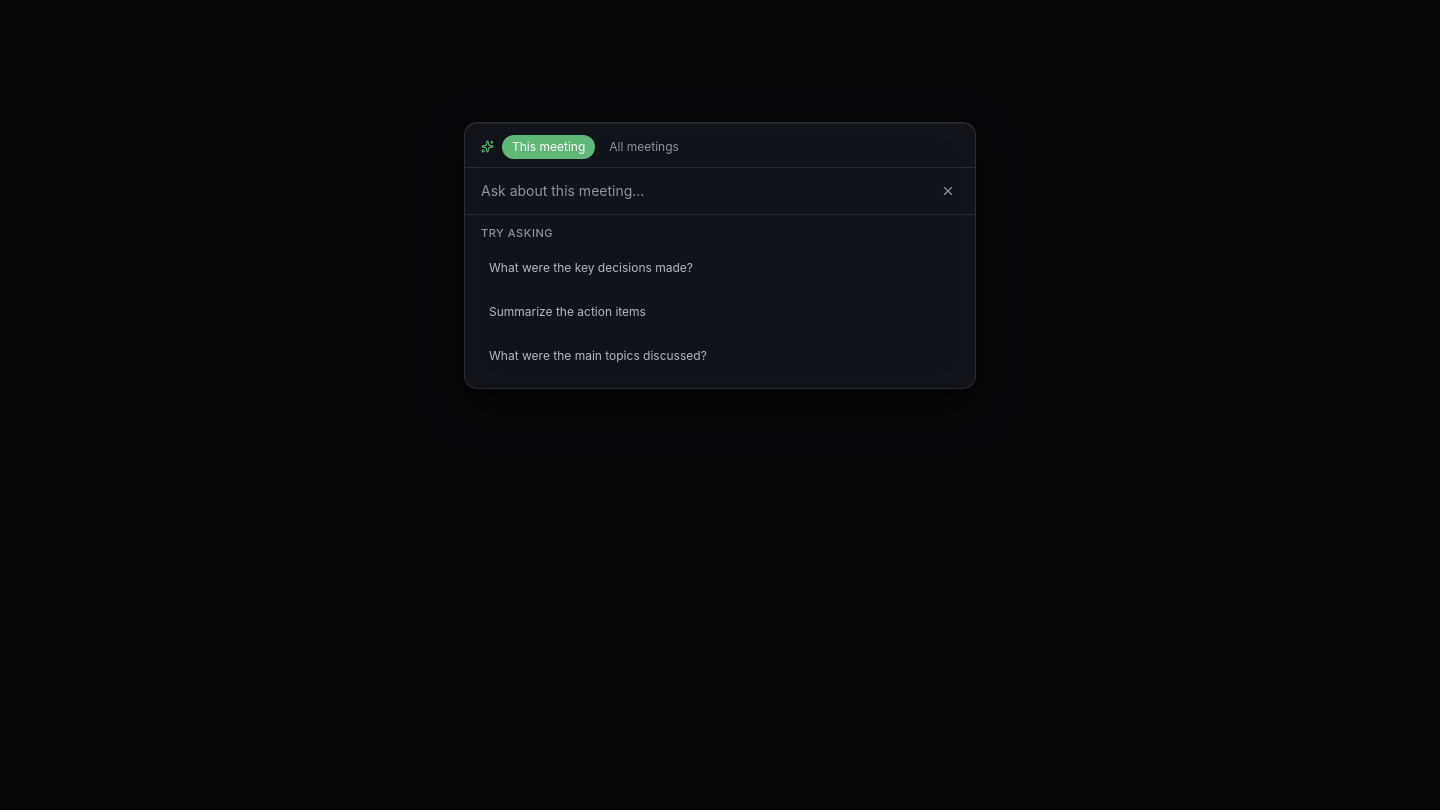
Scenario: AskAIOverlay scope race (audit P3-B) › locks scope switching while a question is in flight
This screenshot has width=1440, height=810.
In the field labelled "Ask about this meeting": (703, 190) [481,180,925,200], type "what shipped?"
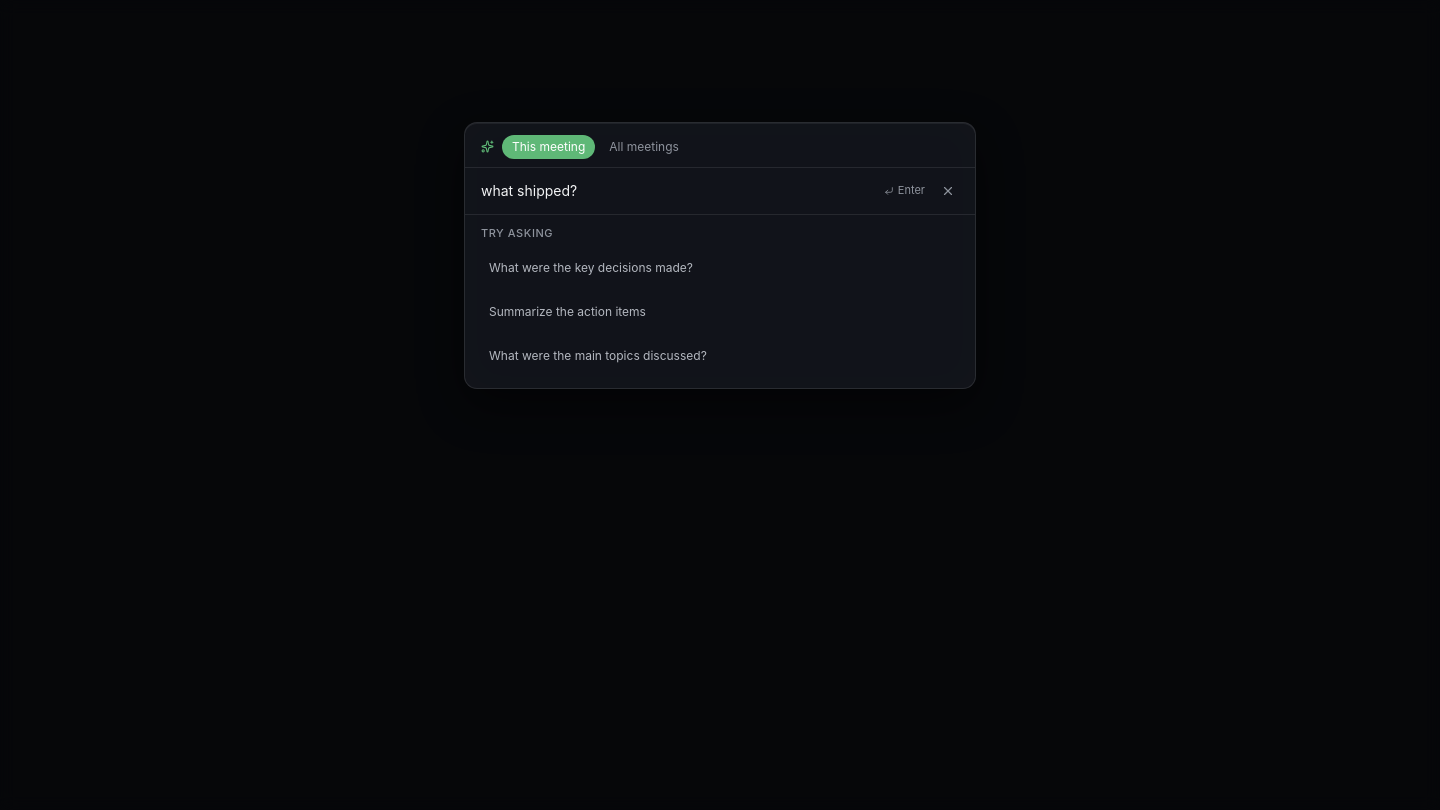
Press Enter in the field named "Ask about this meeting", box [481,180,872,200]
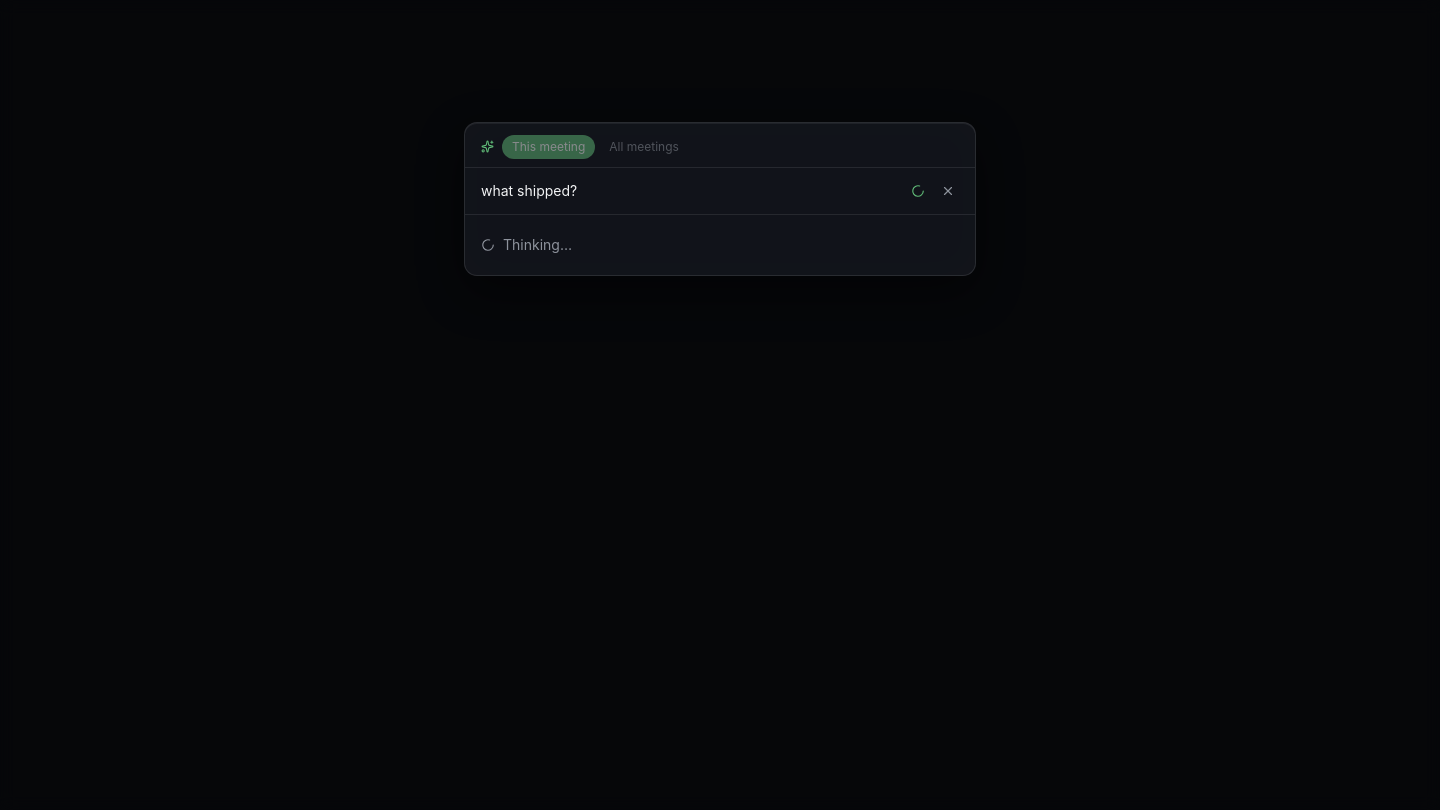
Check: the text "Thinking…" is shown, box [481,236,572,252]
Check: the button "All meetings" is disabled
Check: the button "This meeting" is disabled, box [502,134,595,158]
# A click while disabled is inert — the scope stays put.
Click the button "All meetings": (644, 146) [599,134,689,158]
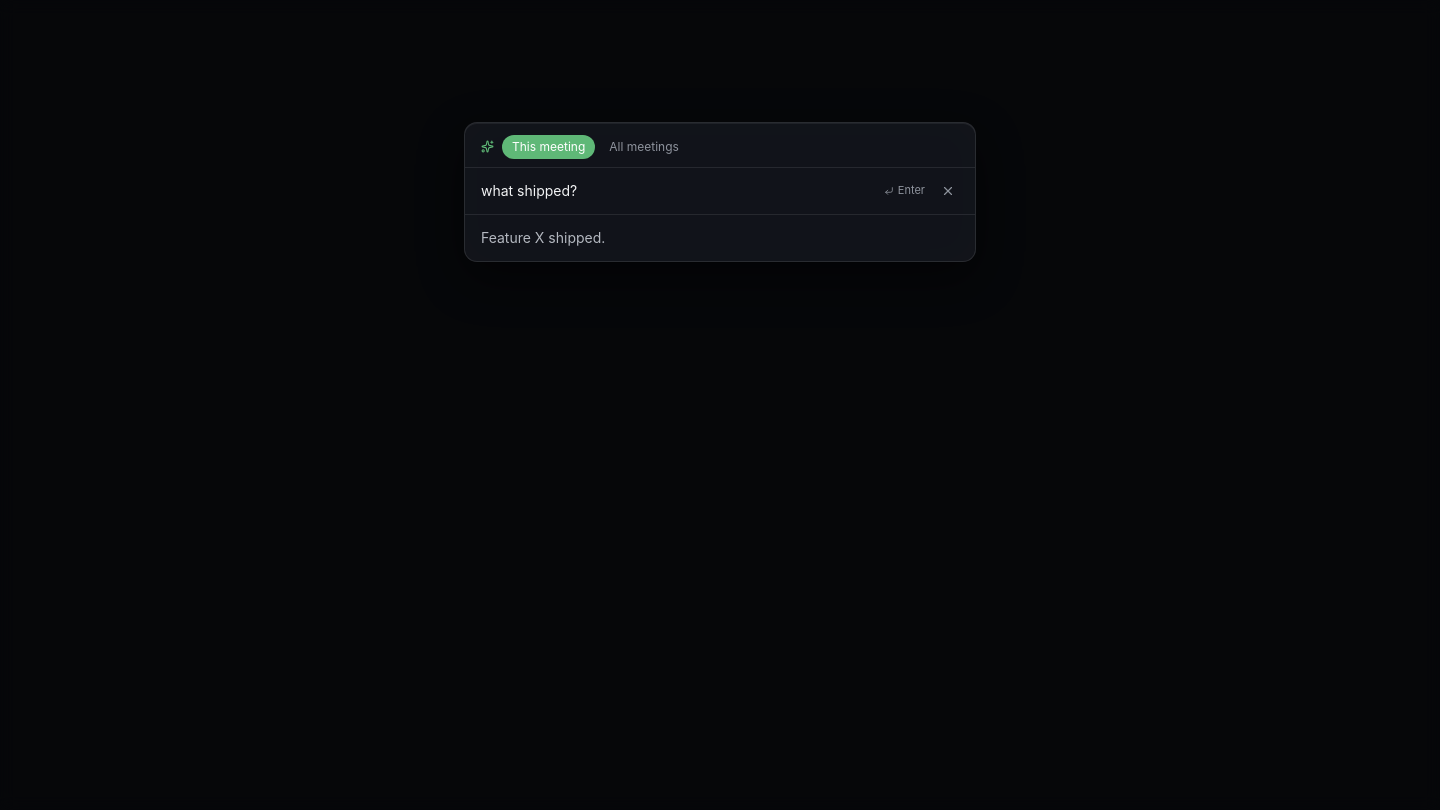
Check: the text "Feature X shipped." is shown, box [481,228,605,246]
Check: the button "All meetings" is enabled, box [599,134,689,158]
